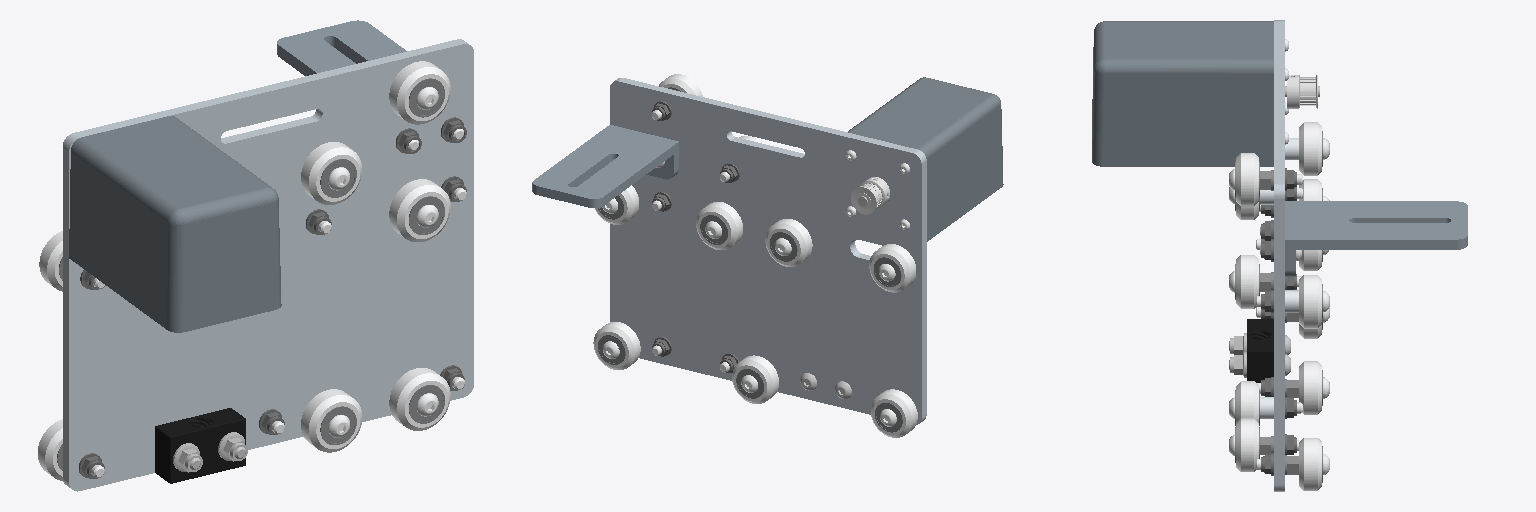
robot.urdf — farmbot:
<?xml version="1.0" ?>
<!-- =================================================================================== -->
<!-- |    This document was autogenerated by xacro from assembly_crossSlide_zAxis.xacro | -->
<!-- |    EDITING THIS FILE BY HAND IS NOT RECOMMENDED                                 | -->
<!-- =================================================================================== -->
<robot name="farmbot" xmlns:xacro="http://www.ros.org/wiki/xacro">
  <link name="z_axis">
    <visual>
      <geometry>
        <mesh filename="package://farmbot_description/meshes/visual/z_axis.dae"/>
      </geometry>
    </visual>
    <collision>
      <geometry>
        <mesh filename="package://farmbot_description/meshes/collision/collision_zAxis.stl"/>
      </geometry>
    </collision>
    <inertial>
      <mass value="10"/>
      <inertia ixx="0.1" ixy="0.0" ixz="0.0" iyy="0.1" iyz="0.0" izz="0.1"/>
    </inertial>
  </link>
  
s
  <link name="cross_slide">
    <visual>
      <geometry>
        <mesh filename="package://farmbot_description/meshes/visual/cross_slide.dae"/>
      </geometry>
    </visual>
    <collision>
      <geometry>
        <mesh filename="package://farmbot_description/meshes/visual/cross_slide.dae"/>
      </geometry>
    </collision>
    <inertial>
      <mass value="1"/>
      <inertia ixx="0.1" ixy="0.0" ixz="0.0" iyy="0.1" iyz="0.0" izz="0.1"/>
    </inertial>
  </link>
  <joint name="joint_cross_slide_z_axis" type="prismatic">
    <parent link="cross_slide"/>
    <child link="z_axis"/>
    <axis xyz="0 0 -1"/>
    <limit effort="1000.0" lower="-0.38" upper="0.35" velocity="0.5"/>
    <origin rpy="0 0 0" xyz="0 0 0"/>
  </joint>
  <!--
  <joint name="joint_gantry_cross_slide" type="fixed">
    <parent link="gantry"/>
    <child link="cross_slide"/>
  </joint>
    <joint name="joint_tracks_gantry" type="fixed">
    <parent link="tracks"/>
    <child link="gantry"/>
  </joint>
    <joint name="joint_raised_bed_tracks" type="fixed">
    <parent link="raised_bed"/>
    <child link="tracks"/>
  </joint>
-->
  <link name="base_link"/>
  <joint name="base_joint" type="fixed">
    <parent link="base_link"/>
    <child link="cross_slide"/>
  </joint>
</robot>

--- Facts derived from the render (not from the file) ---
The picture shows the robot from 3 angles, left to right: view 1: azimuth 30°, elevation 25°; view 2: azimuth 150°, elevation 25°; view 3: azimuth 270°, elevation 25°; orthographic projection.
Robot: farmbot — 3 links, 2 joints (1 prismatic, 1 fixed); root link base_link; default pose: all joints at 0.
Links seen in each view (by area): view 1: cross_slide; view 2: cross_slide; view 3: cross_slide.
Boxes of the visible links, x1,y1,x2,y2 form: cross_slide: (38,20,473,491); cross_slide: (532,74,1003,437); cross_slide: (1092,20,1467,491).
Bounding box of the posed robot: 0.1847 × 0.1666 × 0.1539 m (x, y, z).
1 mesh visuals loaded from 2 distinct referenced files (1 Collada DAE); not drawn: 1 (reference not matched to a file when rendering).